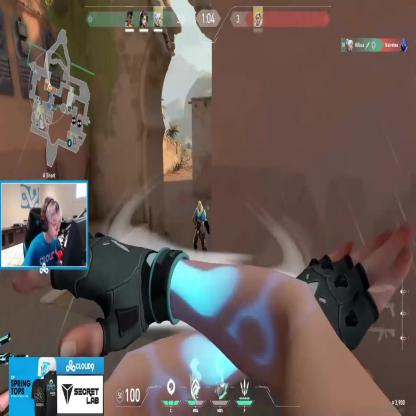enemy: (191, 197, 209, 270)
enemy_head: (198, 201, 202, 212)
